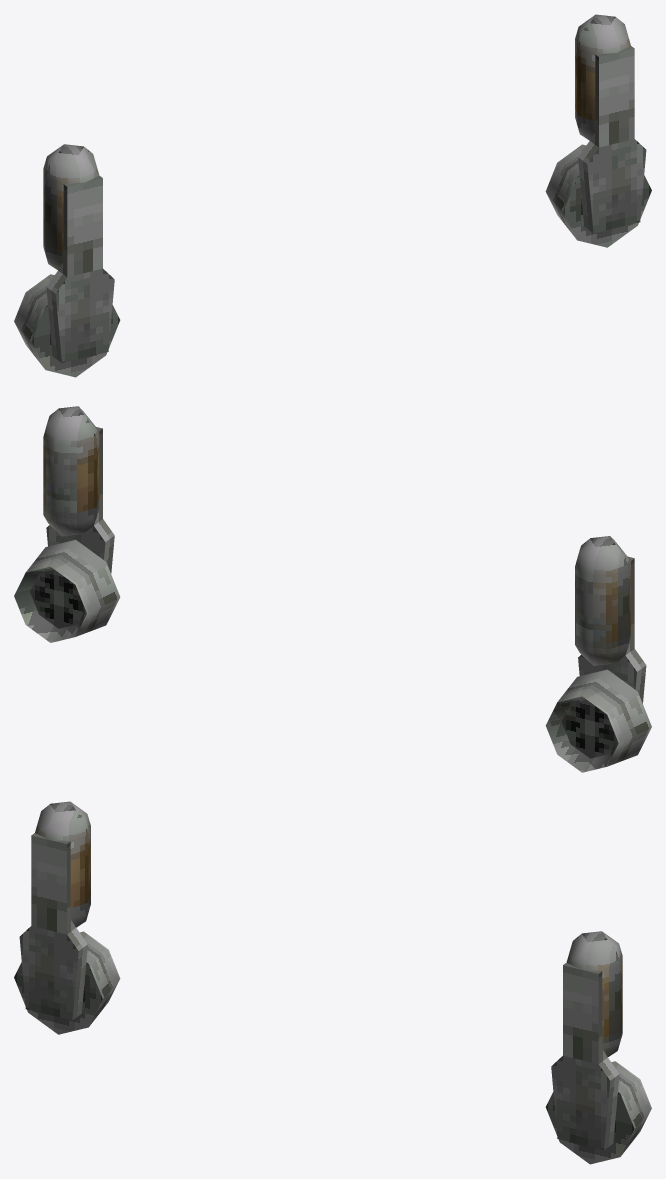
The model's file is kse_firespray_booster_s02_l1.fbx.
3 views of the same model, one above another, from view 1: azimuth 30°, elevation 25°; view 2: azimuth 150°, elevation 25°; view 3: azimuth 330°, elevation 25° (orthographic).
Visible parts, largest first — view 1: mesh_node; view 2: mesh_node; view 3: mesh_node.
Part boxes in pixels (<box>): mesh_node: <box>14,14,651,377</box>; mesh_node: <box>14,406,651,772</box>; mesh_node: <box>14,801,651,1164</box>.
Bounding box in the file's own units: 10.5 × 3.69 × 1.02.
1 material, 1 textured.
